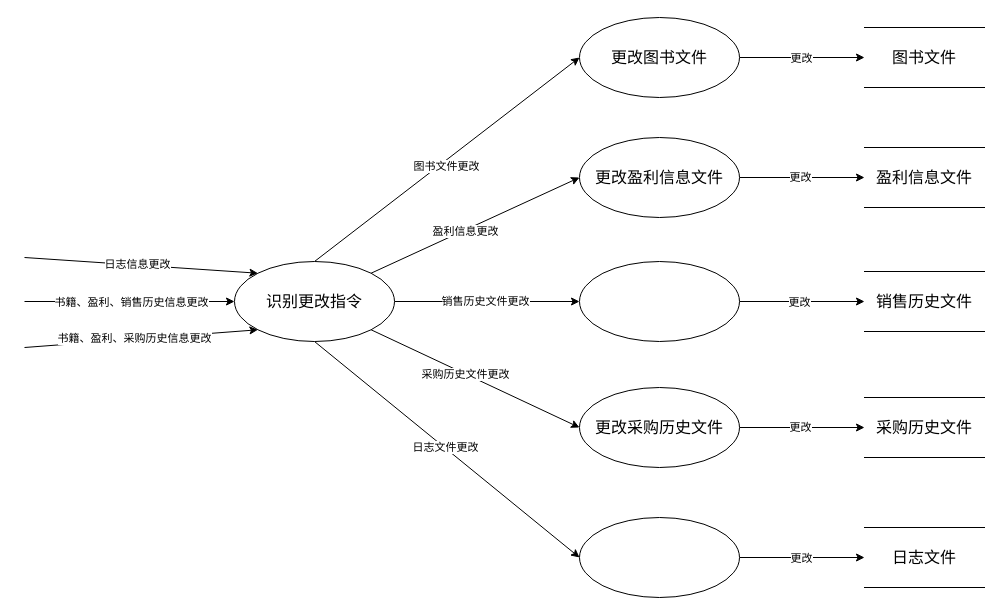
This 1002x615 diagram has some shape labels left out. Each missing label, with the centre of its shape:
"更改日志文件" goes at (659,557).
"更改销售历史文件" goes at (659,301).
